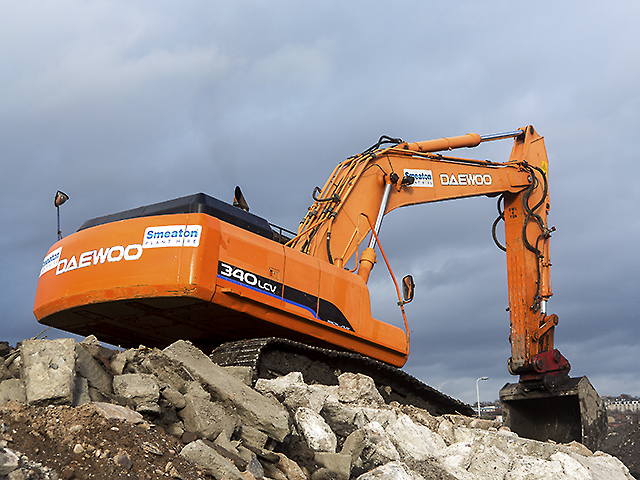excavator: (34, 118, 609, 460)
